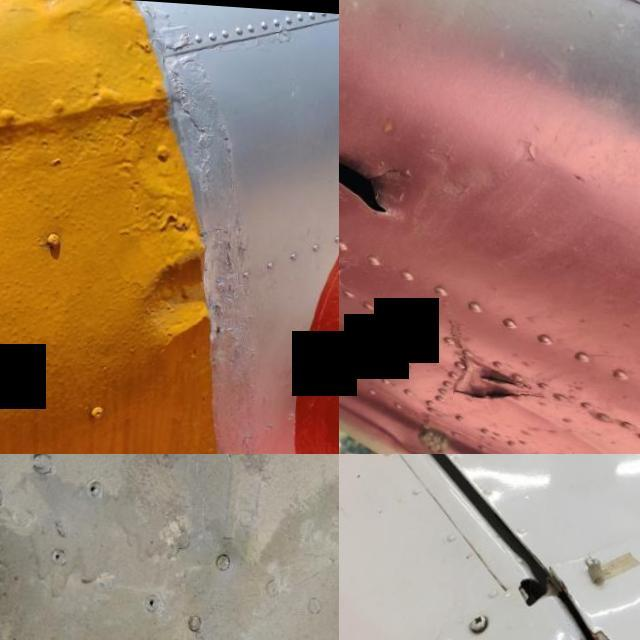Crack: (339, 77, 423, 218), (581, 599, 640, 640)
Dent: (119, 216, 253, 372)
